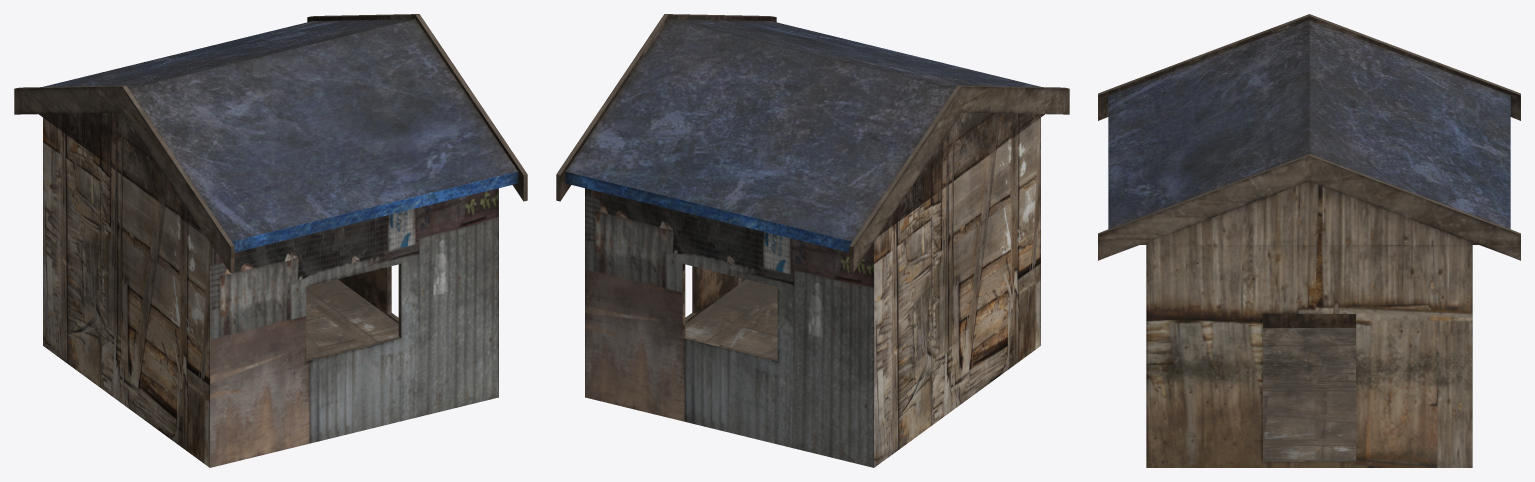
Rendered from slum_hut.glb.
The picture shows the model from 3 angles, left to right: view 1: azimuth 30°, elevation 25°; view 2: azimuth 150°, elevation 25°; view 3: azimuth 270°, elevation 25°; orthographic projection. The views are drawn at different scales.
Parts seen in each view (by area): view 1: Cube; view 2: Cube; view 3: Cube.
Boxes of the visible parts, x1=… form: Cube: x1=14, y1=14, x2=527, y2=467; Cube: x1=556, y1=14, x2=1069, y2=467; Cube: x1=1098, y1=14, x2=1520, y2=467.
Bounding box in the file's own units: 411 × 425 × 518.
1 material, 1 textured.
